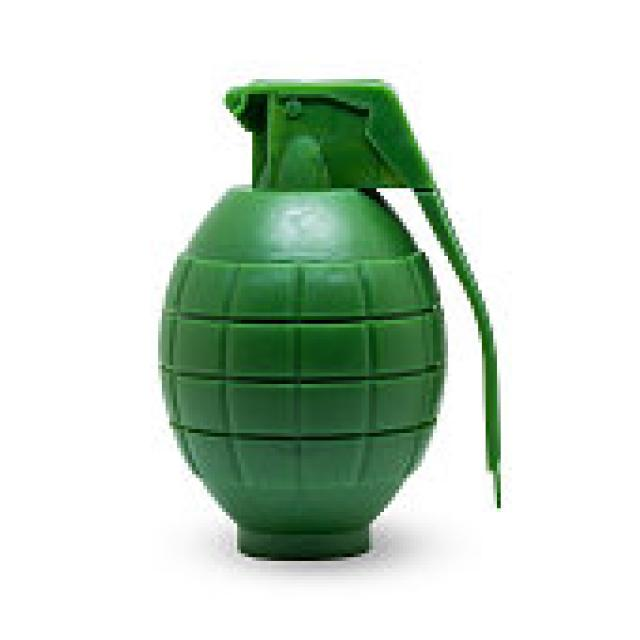grenade: (151, 60, 508, 574)
